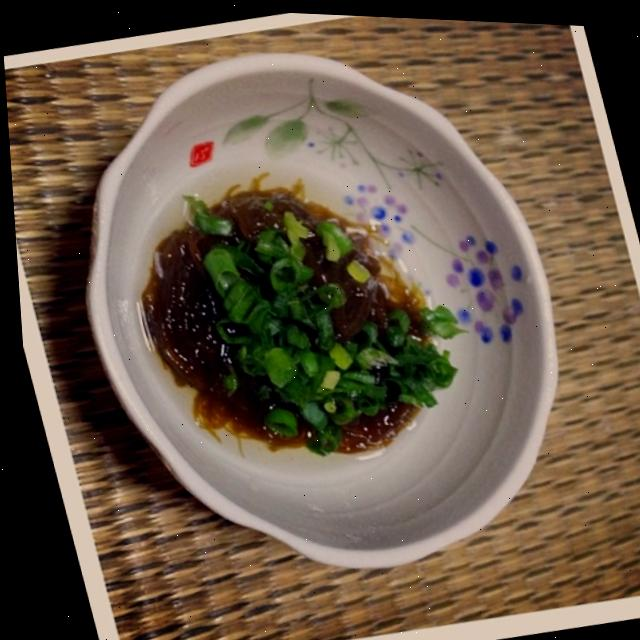蔬菜料理: (124, 144, 480, 484)
